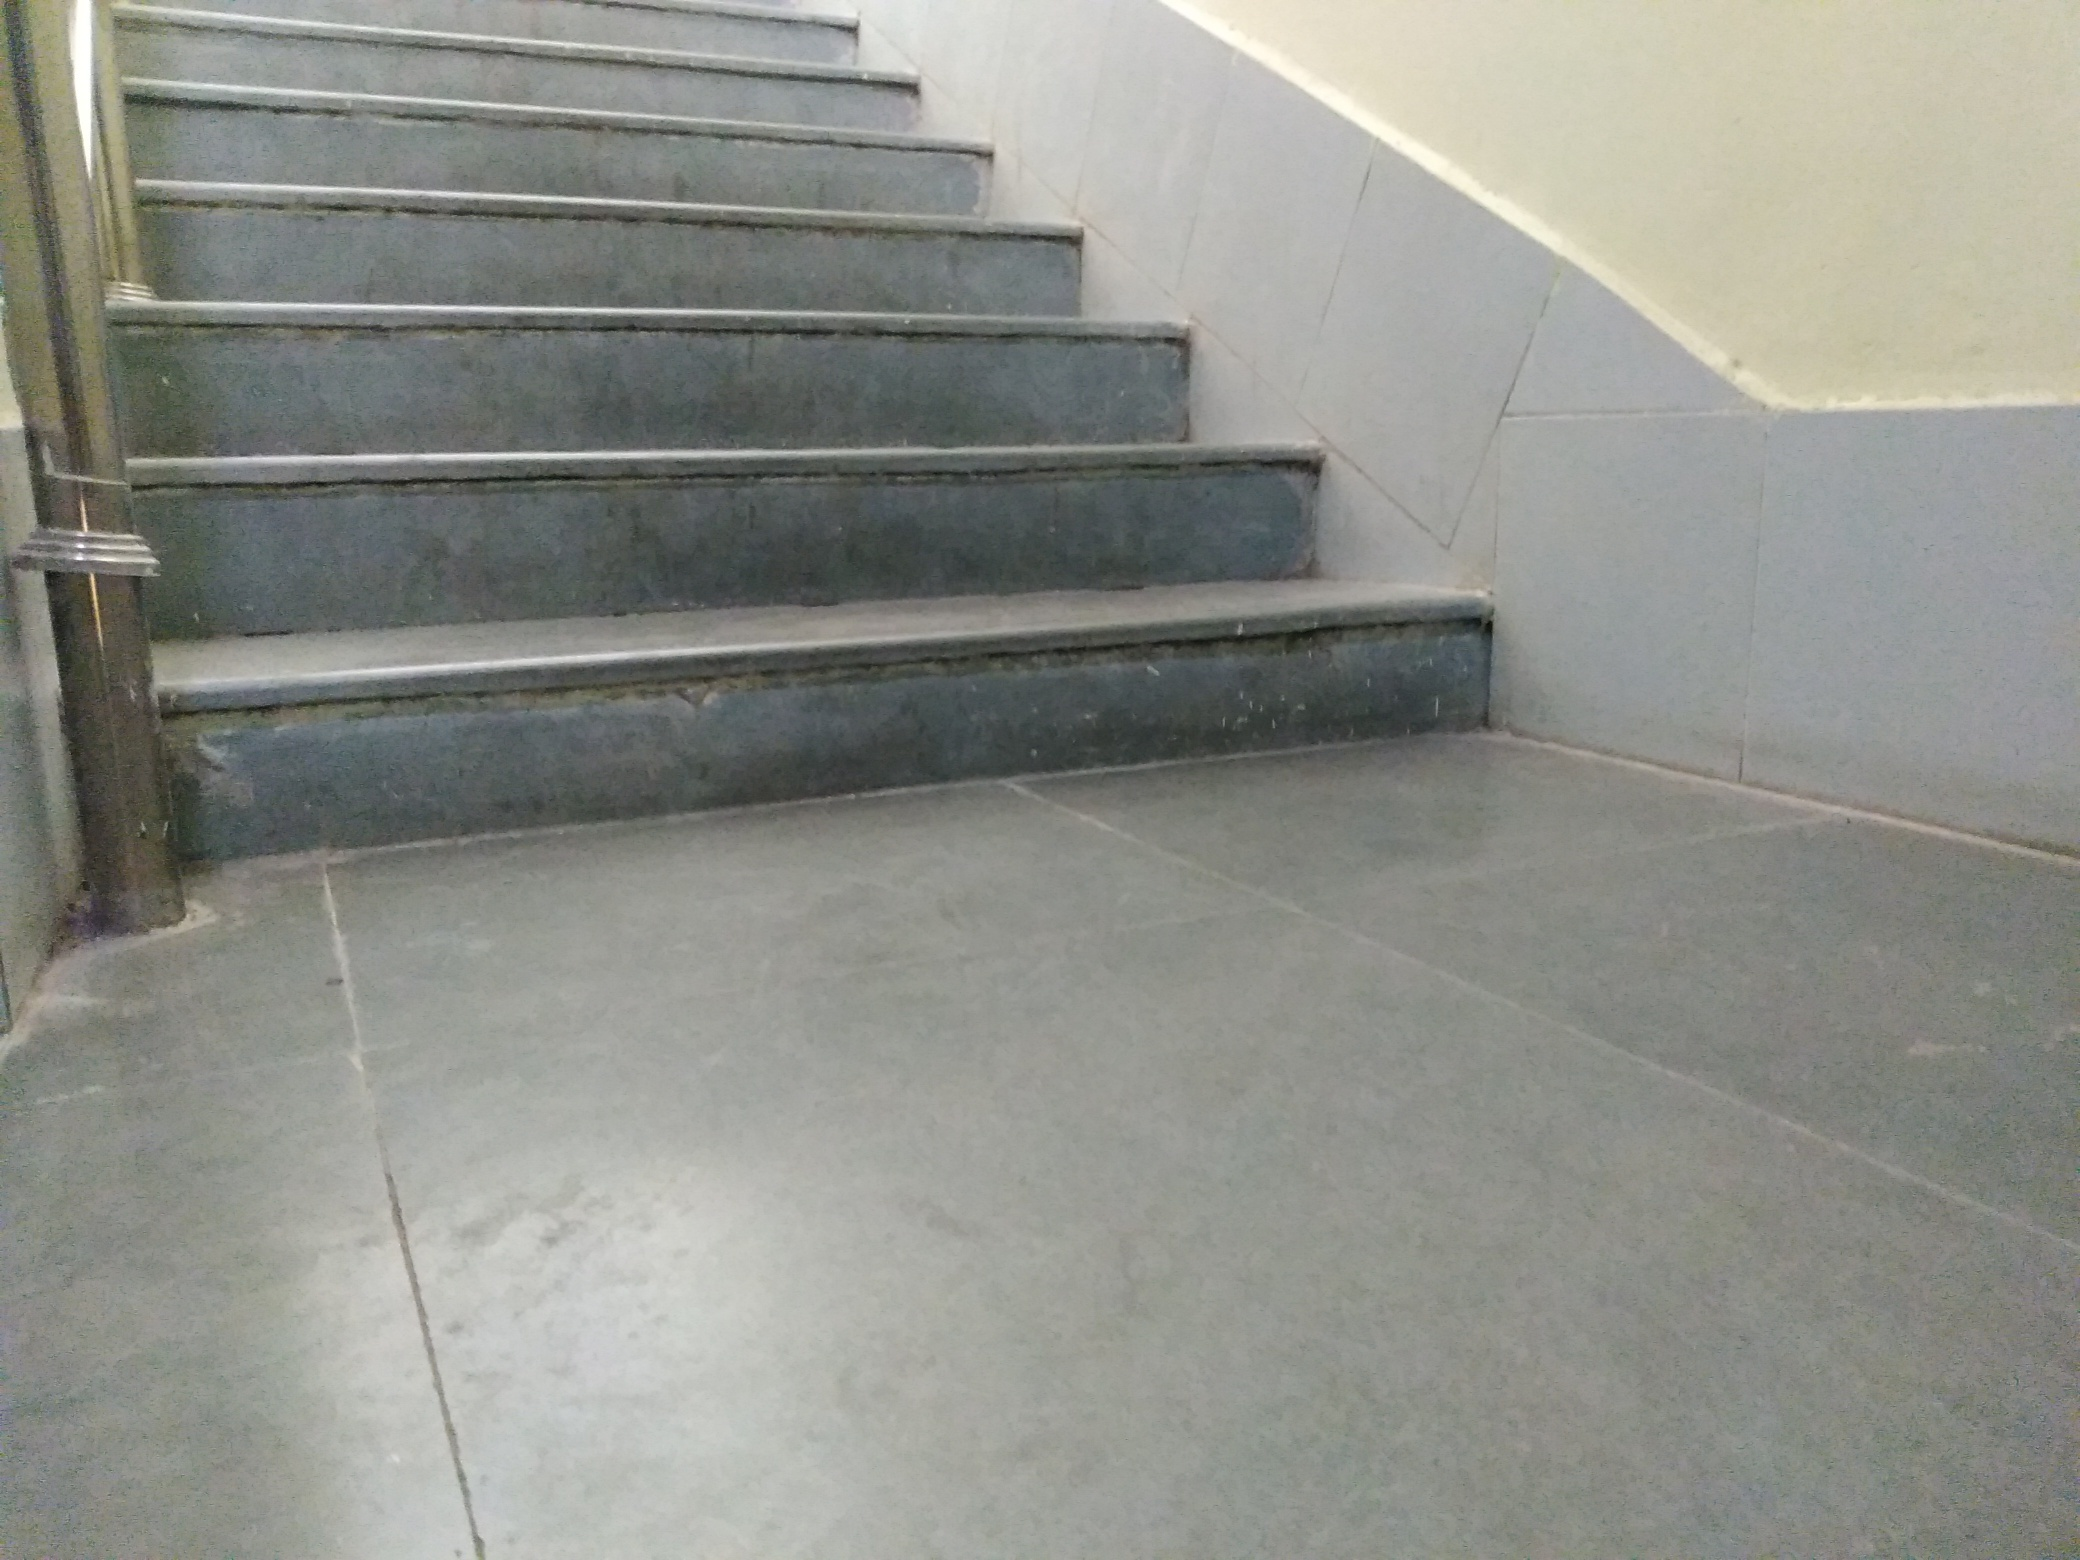stairs_up: (97, 16, 1561, 819)
